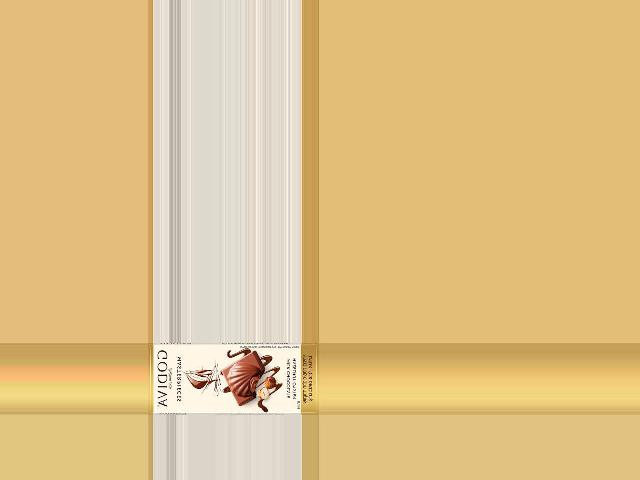chocolate: (148, 344, 318, 414)
